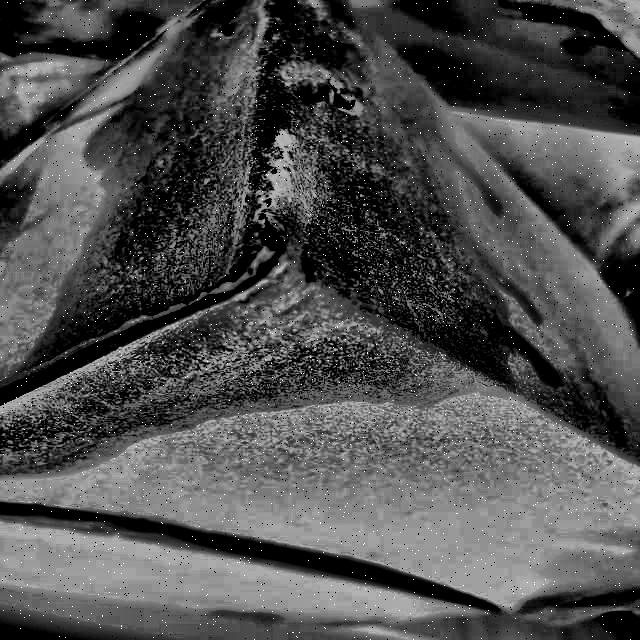box: (1, 1, 640, 634)
wet: (1, 1, 537, 477)
